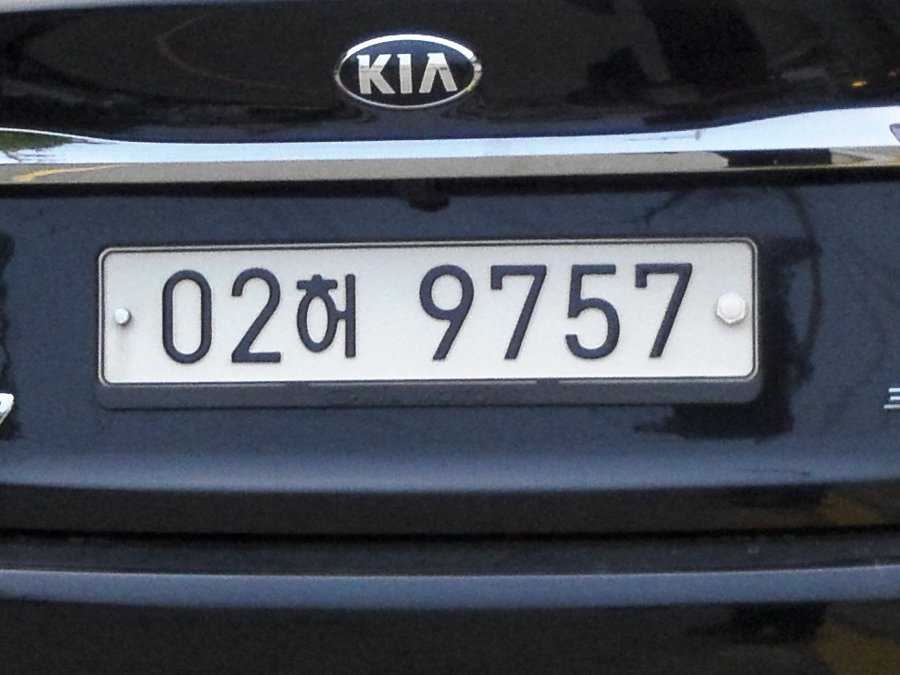plate: (101, 251, 756, 375)
